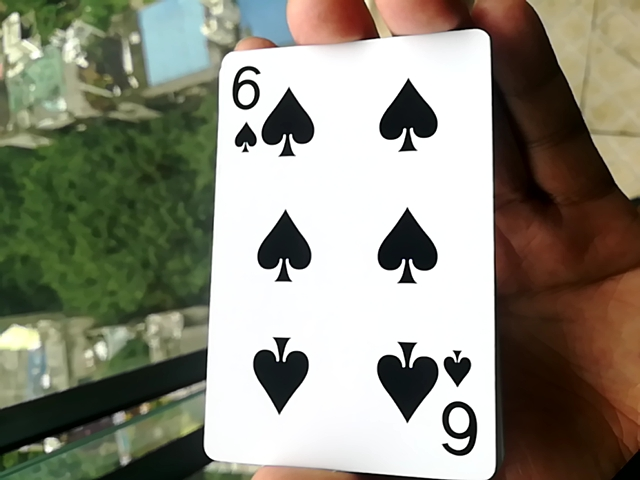ht 6: (202, 23, 496, 480)
